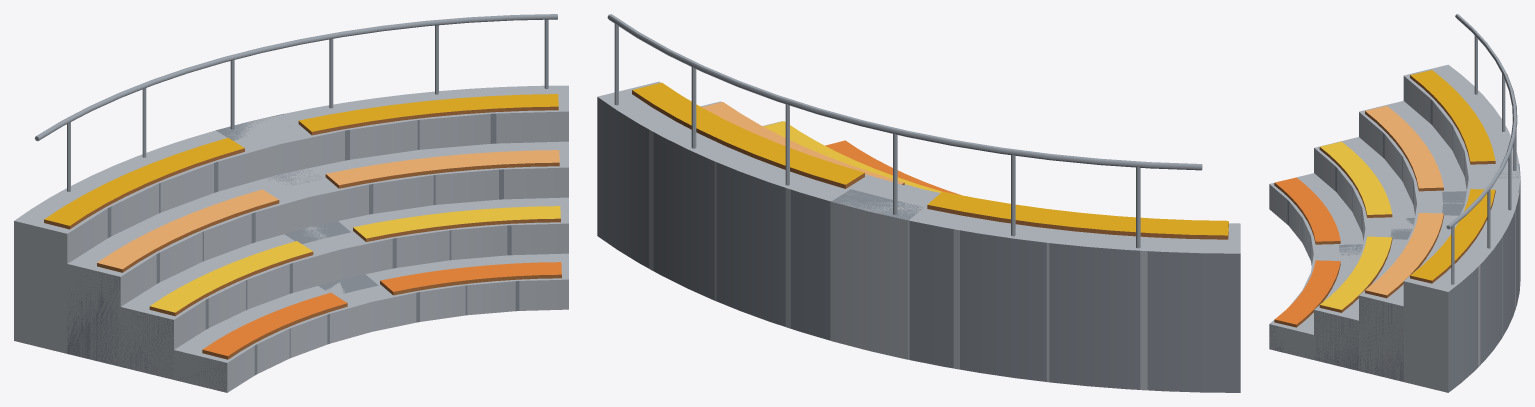
The model's file is arquibancada_praca.glb.
The picture shows the model from 3 angles, left to right: view 1: azimuth 30°, elevation 25°; view 2: azimuth 150°, elevation 25°; view 3: azimuth 270°, elevation 25°; orthographic projection. The views are drawn at different scales.
Visible parts, largest first — view 1: colisao_degraus, arquibancada_praca; view 2: arquibancada_praca, colisao_degraus; view 3: arquibancada_praca, colisao_degraus.
Boxes of the visible parts, box(x1,y1,x2,y2) form: colisao_degraus: box(14, 85, 568, 392); arquibancada_praca: box(16, 14, 568, 391); arquibancada_praca: box(597, 14, 1240, 392); colisao_degraus: box(598, 81, 1240, 390); arquibancada_praca: box(1269, 14, 1520, 392); colisao_degraus: box(1269, 65, 1520, 392).
Bounding box in the file's own units: 8.12 × 2.71 × 3.79.
1 material, 1 textured.
